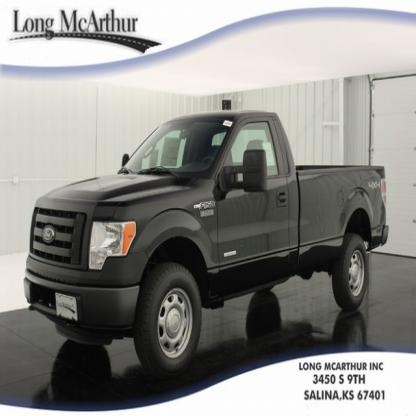Vehicle: (22, 96, 392, 384)
